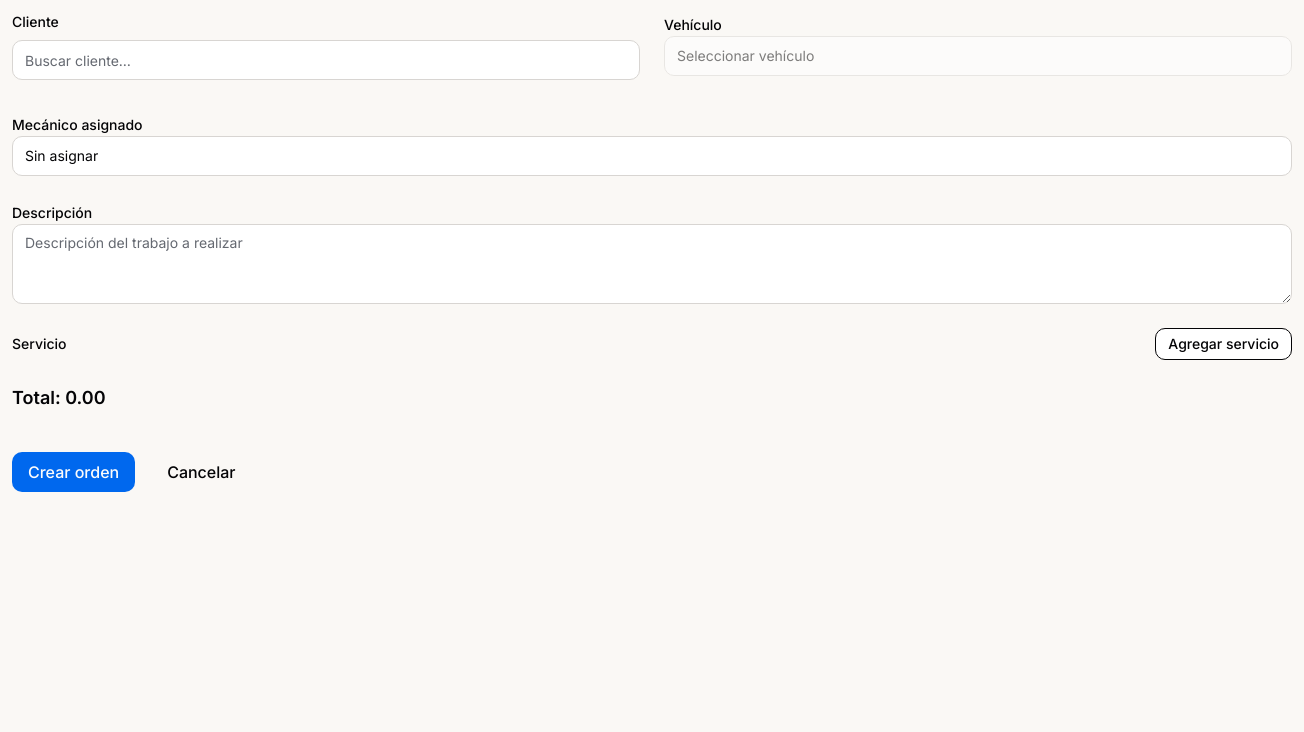
Test: WorkOrderForm › S10: live total uses integer-cents arithmetic without float drift
Click the button "Agregar servicio": [1224, 344] box [1155,328,1292,360]
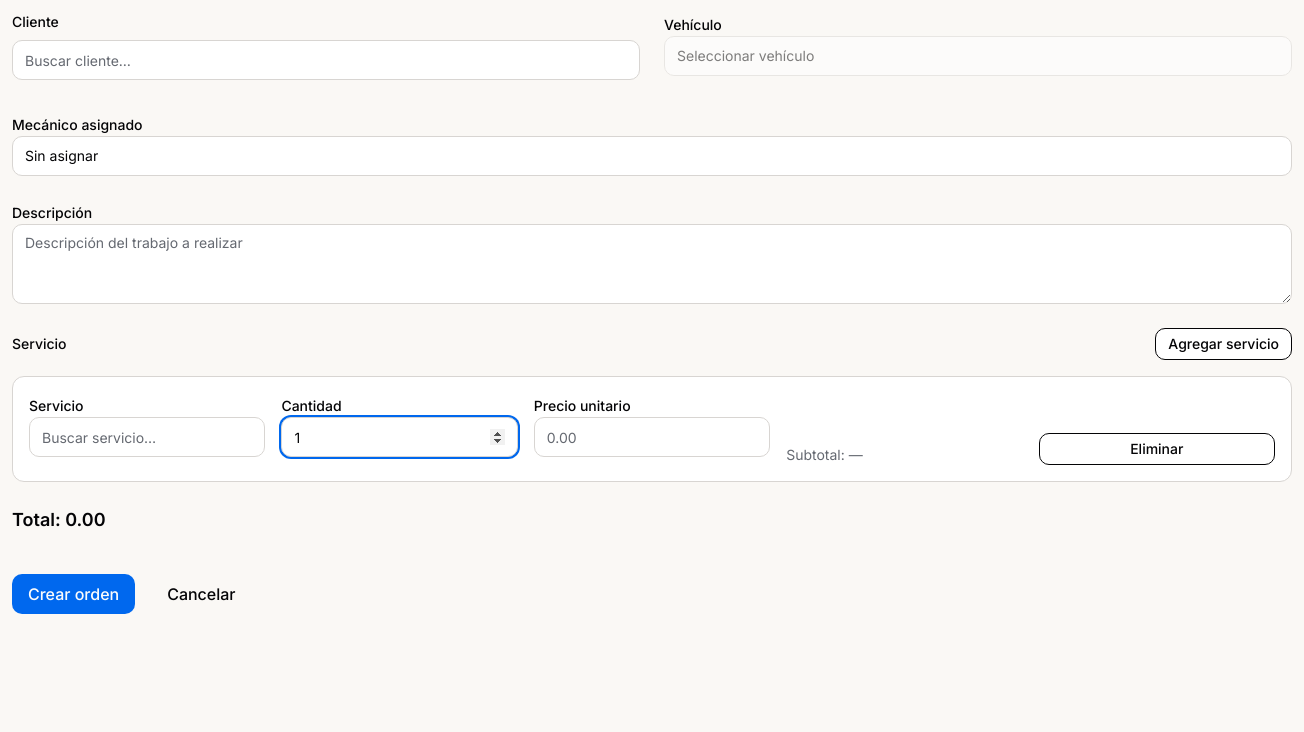
Click the dropdown labelled "Servicio": [147, 437] box [29,417,265,457]
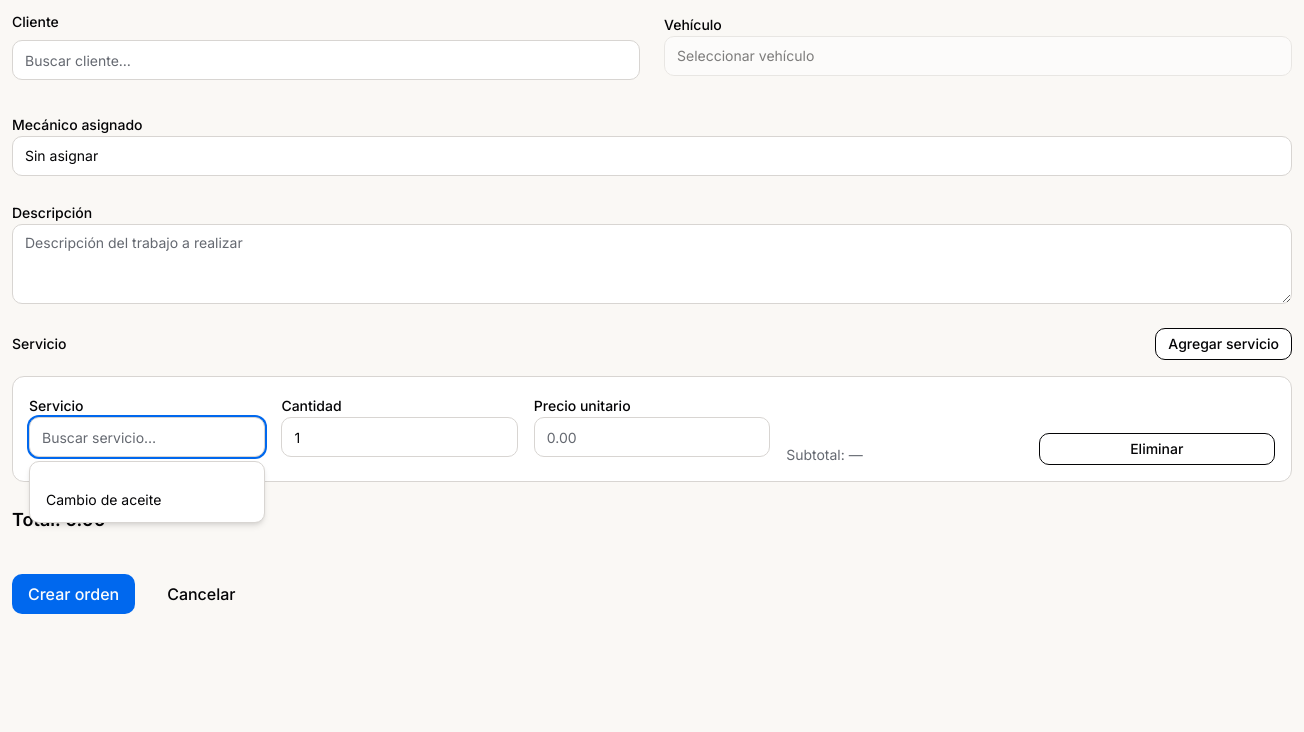
Click the option "Cambio de aceite": [104, 500] box [46,491,161,508]
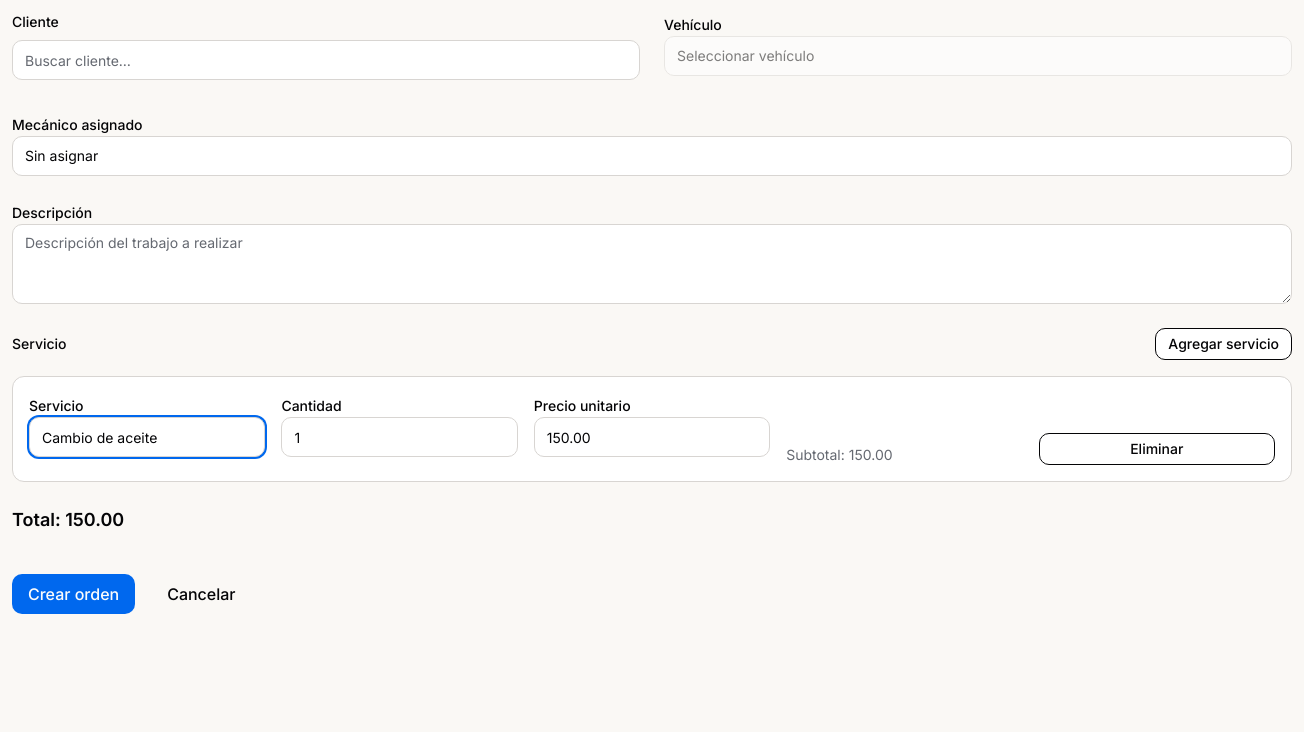
Replace the text in the number field labelled "Precio unitario" with "0.10": [652, 437] box [534,417,770,457]
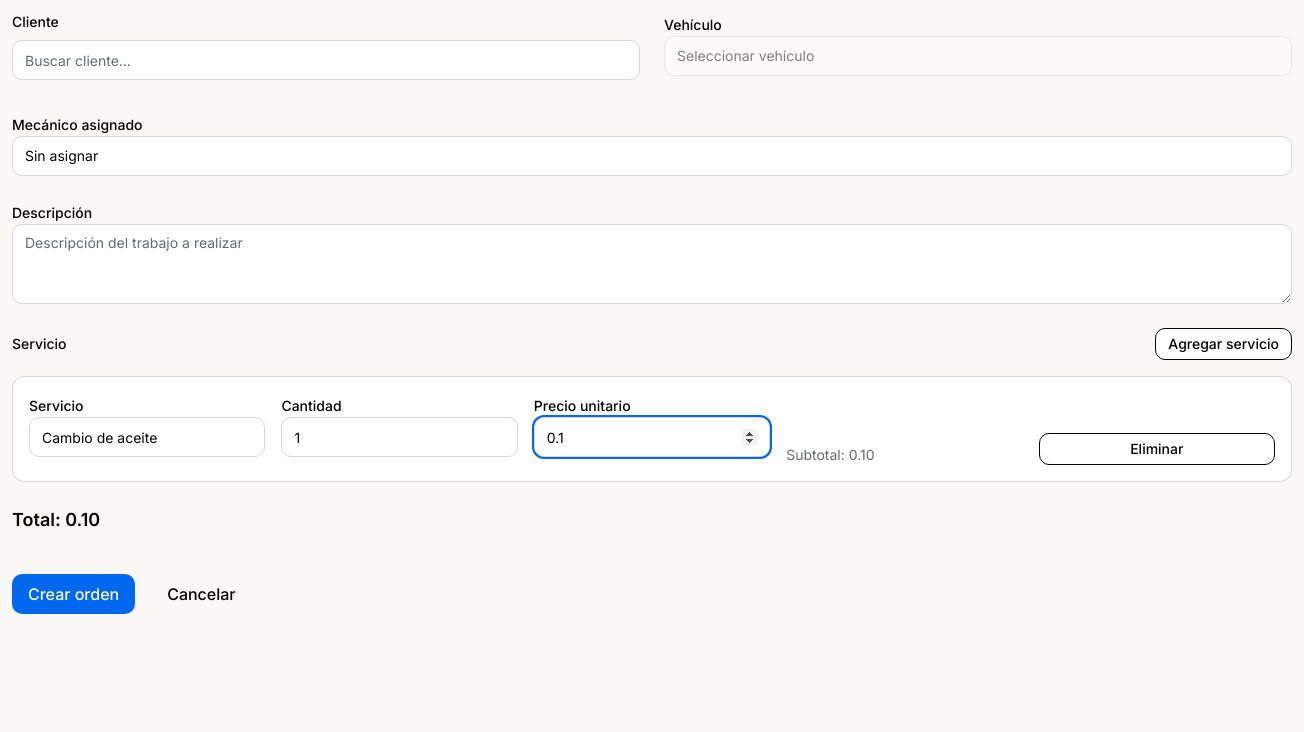
Replace the text in the number field labelled "Cantidad" with "3": [400, 437] box [281,417,518,457]
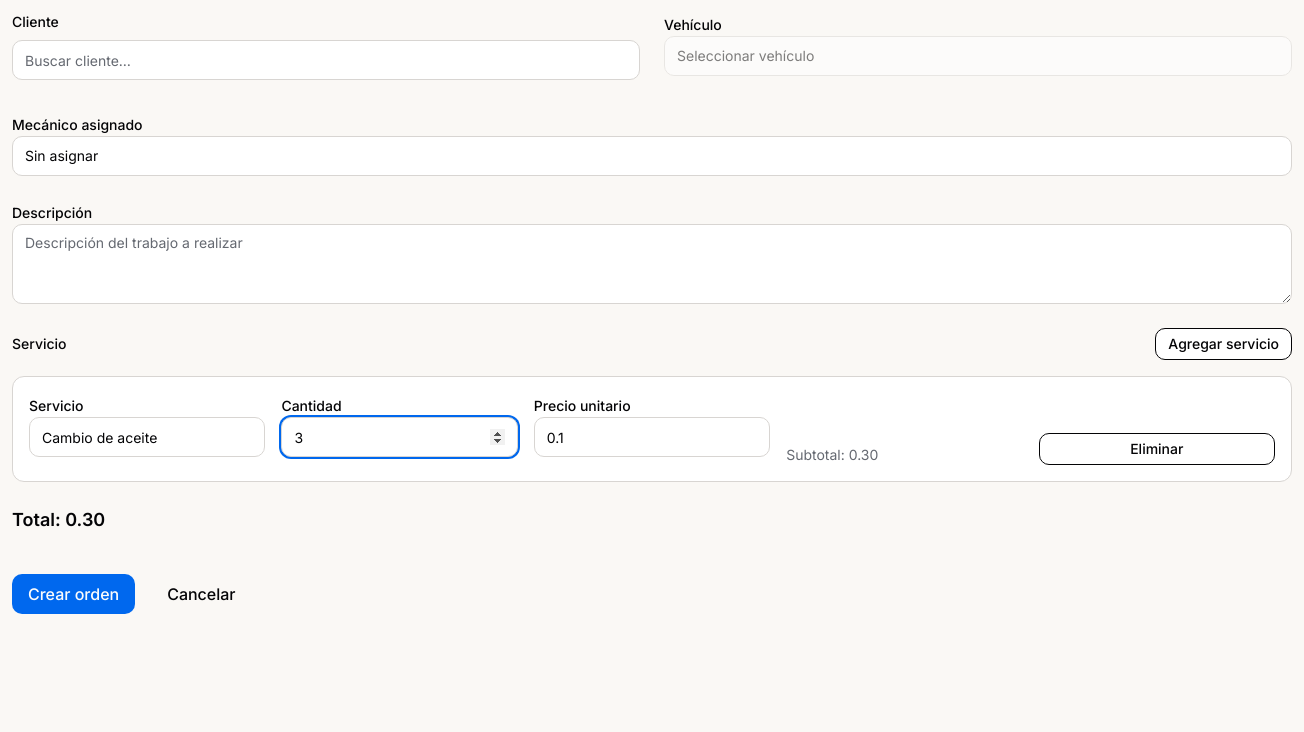
Check: the text "Total: 0.30" is shown, box [12,509,105,530]
